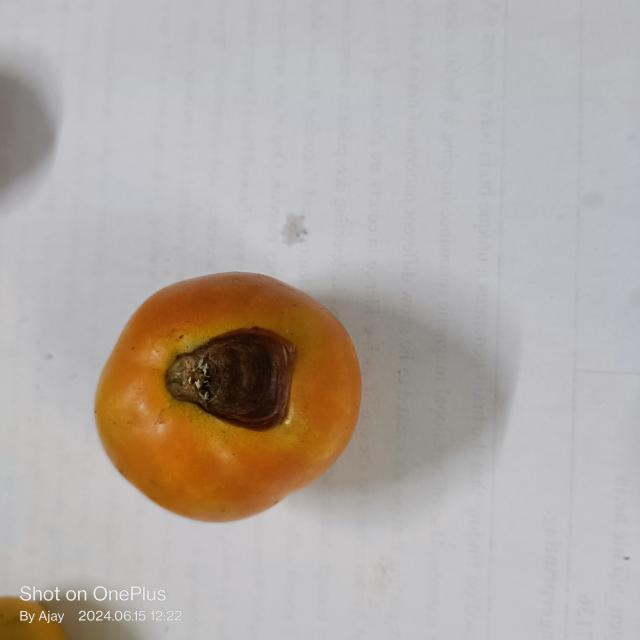Anthrocnose: (160, 329, 298, 429)
